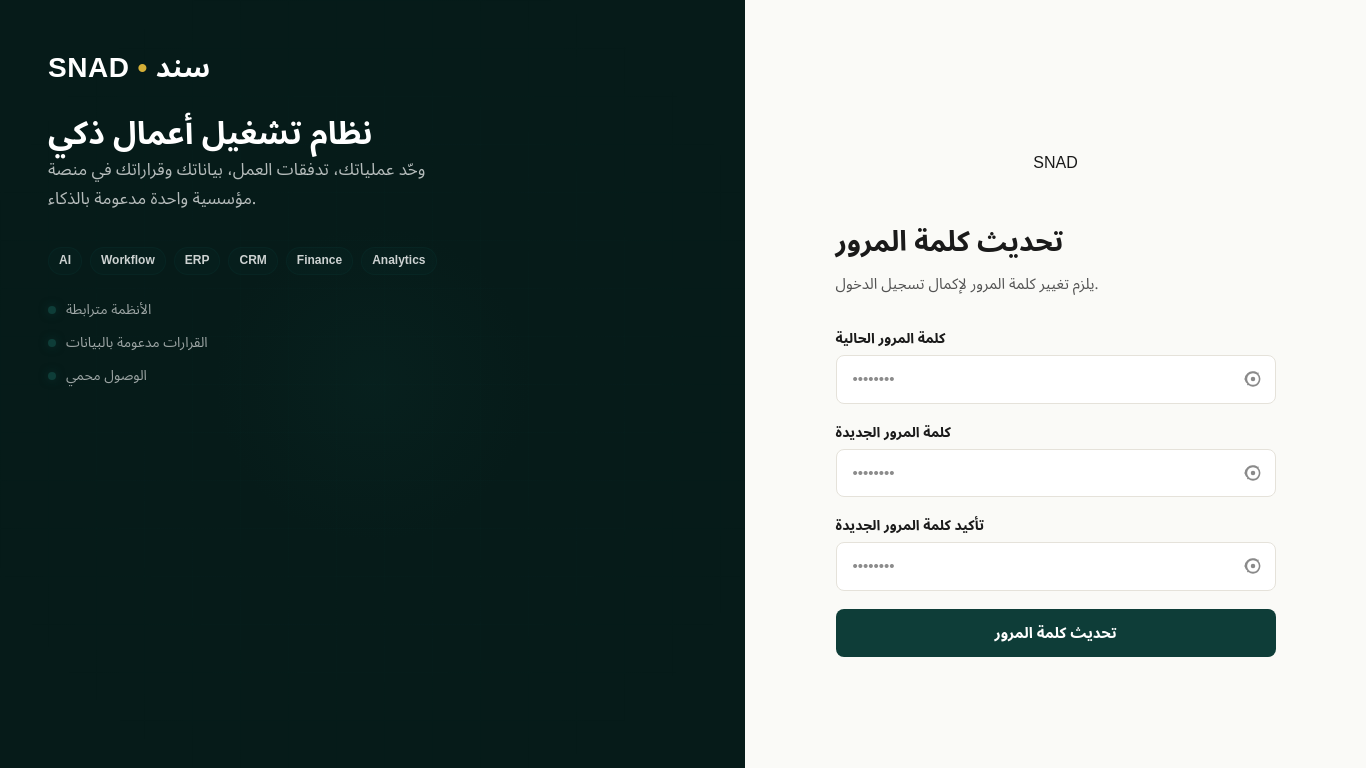
Test: CredentialRotationForm › validates that new passwords match
This screenshot has width=1366, height=768.
Type "OldPass123!" into the password field labelled "كلمة المرور الحالية" at [1056, 379], box x1=836 y1=355 x2=1276 y2=404
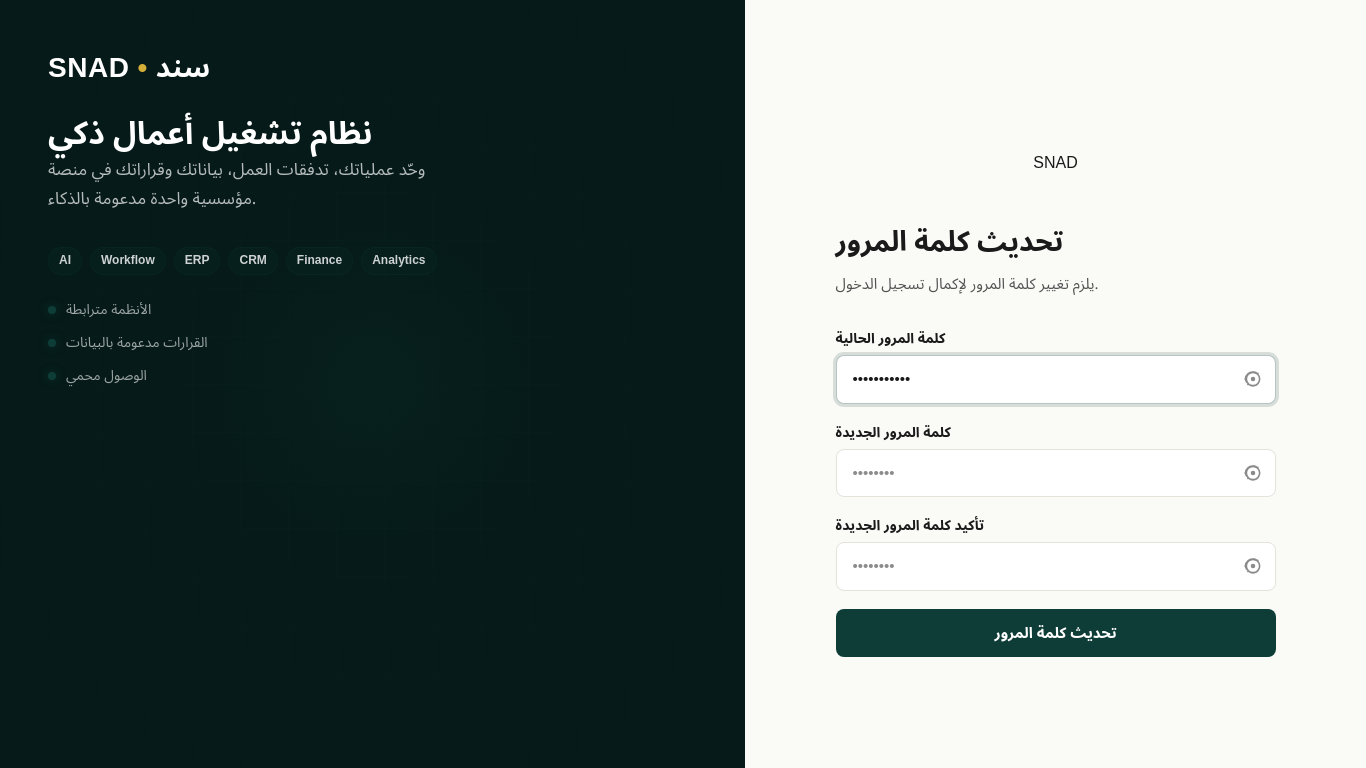
Type "NewPass123!" into the password field labelled "كلمة المرور الجديدة" at [1056, 473], box x1=836 y1=448 x2=1276 y2=497
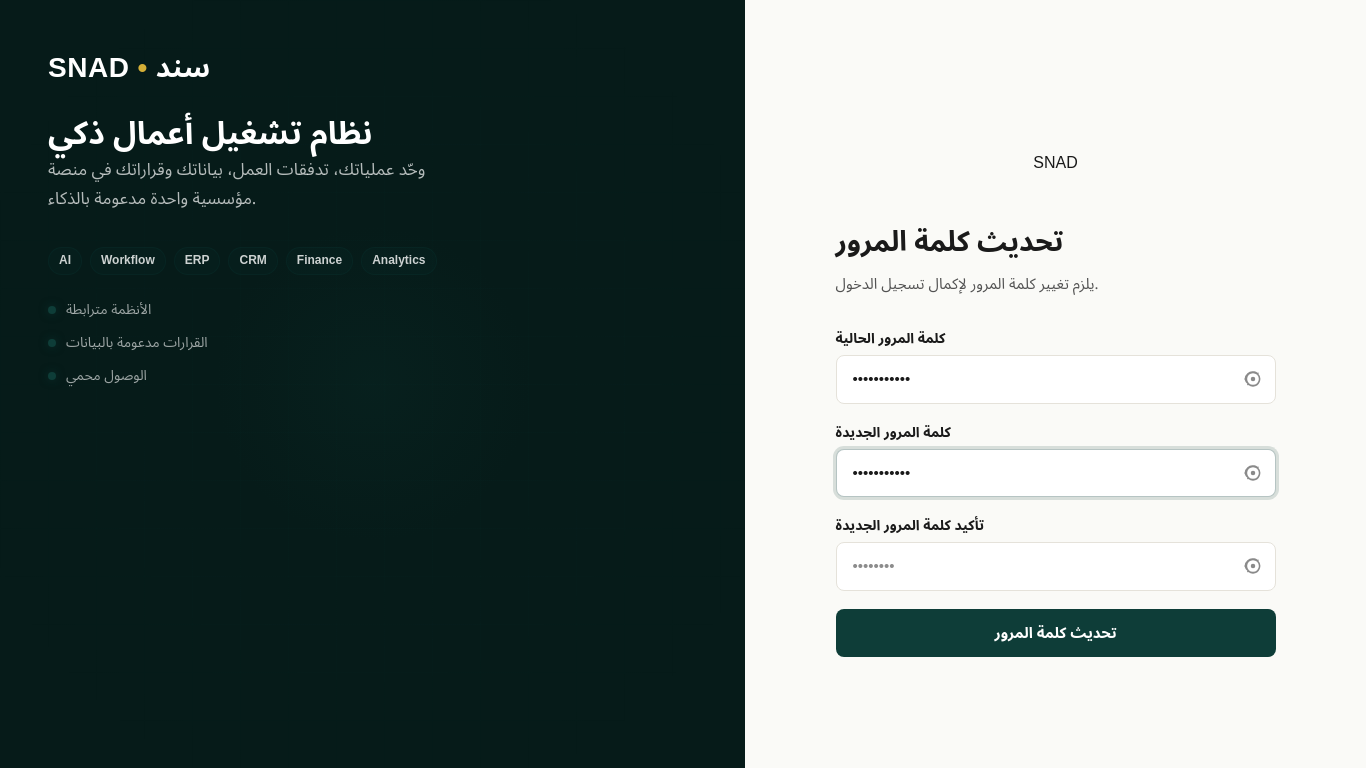
Type "Different123!" into the password field labelled "تأكيد كلمة المرور الجديدة" at [1056, 566], box x1=836 y1=542 x2=1276 y2=590
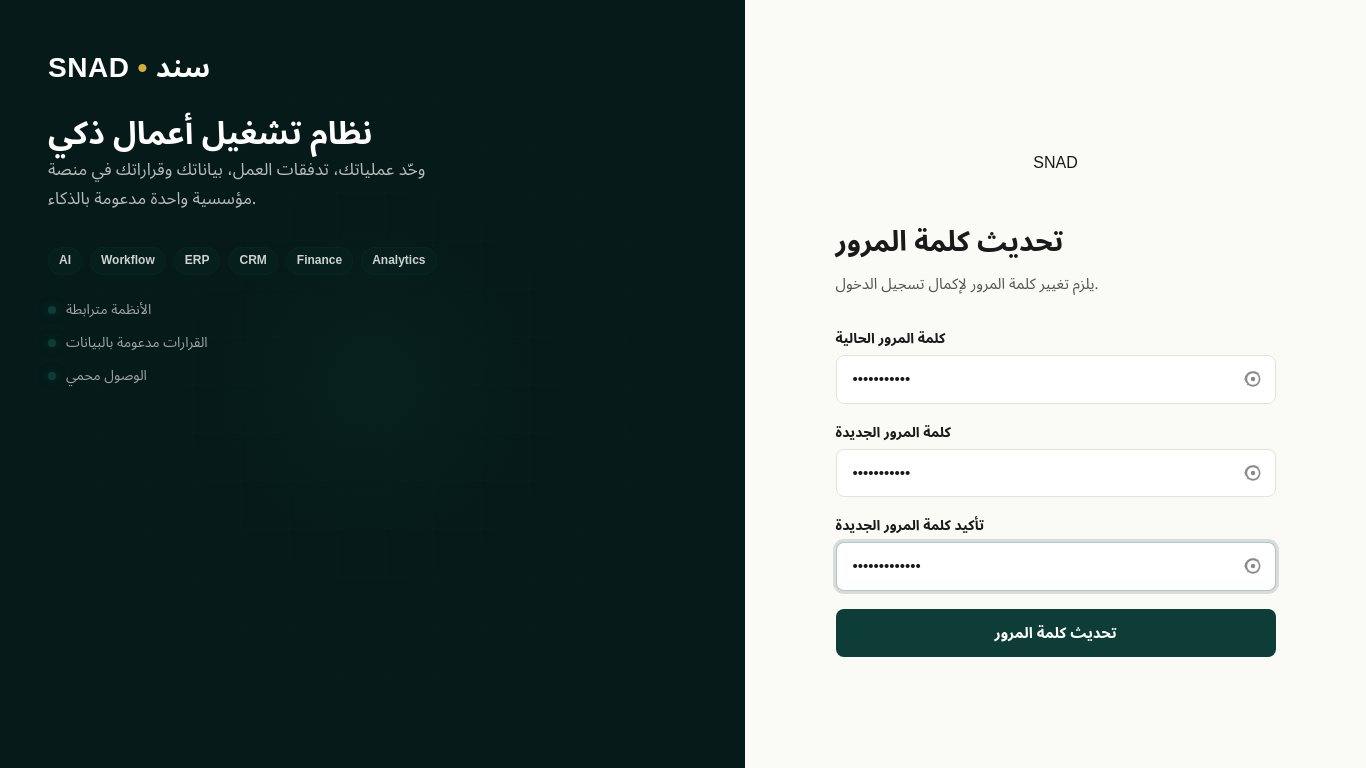
Click the button "تحديث كلمة المرور" at [1056, 633], box x1=836 y1=608 x2=1276 y2=657
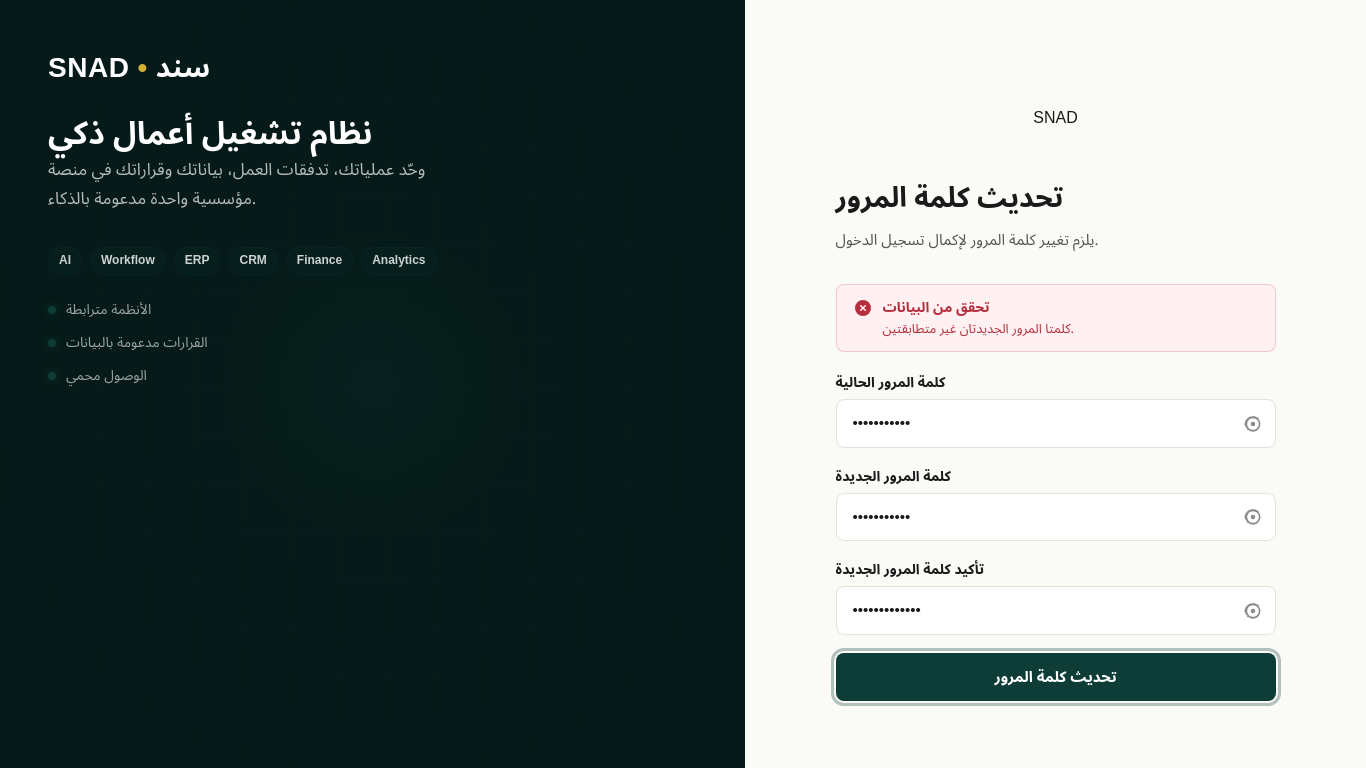
Now the message shows "كلمتا المرور الجديدتان غير متطابقتين.", box x1=882 y1=315 x2=1074 y2=343
